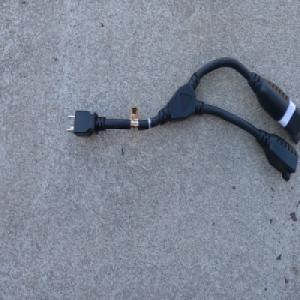Wire: (65, 56, 300, 181)
